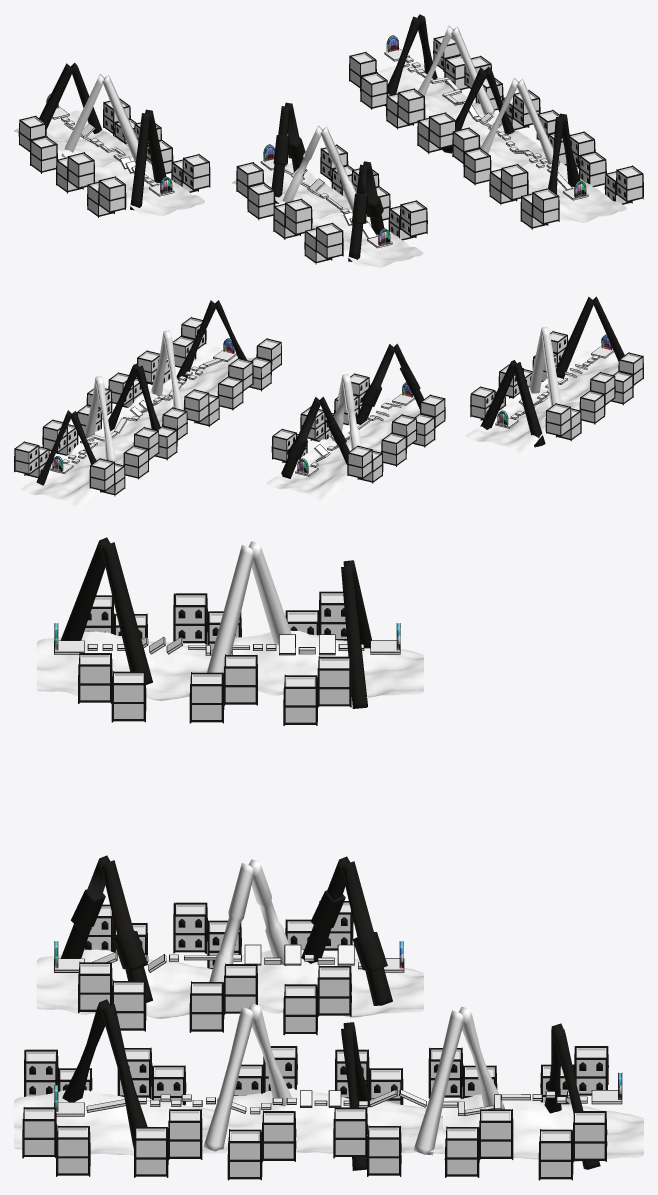
File: balls.fbx
The picture shows the model from 3 angles, top to bottom: view 1: azimuth 30°, elevation 25°; view 2: azimuth 150°, elevation 25°; view 3: azimuth 270°, elevation 25°; orthographic projection. The views are drawn at different scales.
Visible parts, largest first — view 1: Cube.018; view 2: Cube.018; view 3: Cube.018.
Part boxes in pixels (x1,y1,x2,y2): Cube.018: (14, 14, 643, 267); Cube.018: (14, 296, 643, 508); Cube.018: (14, 537, 643, 1180).
Size of the model in its own units: 18694 by 6943 by 13144.
Materials: 1 (1 with a texture image).
